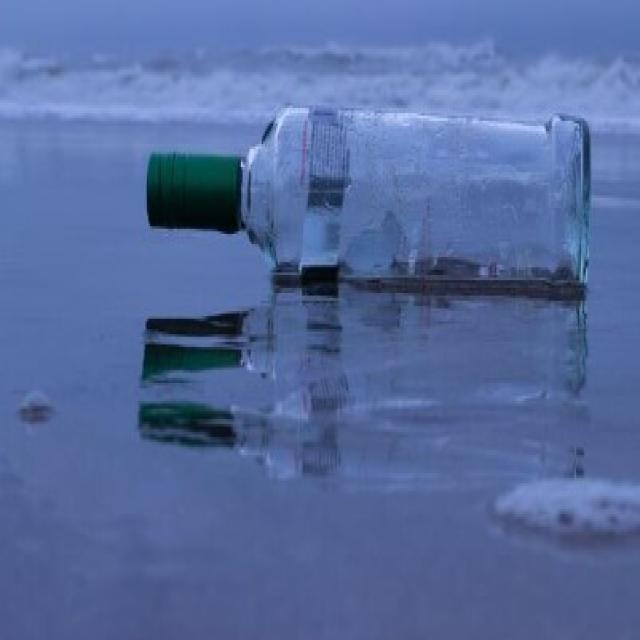electronic: (140, 91, 592, 309)
